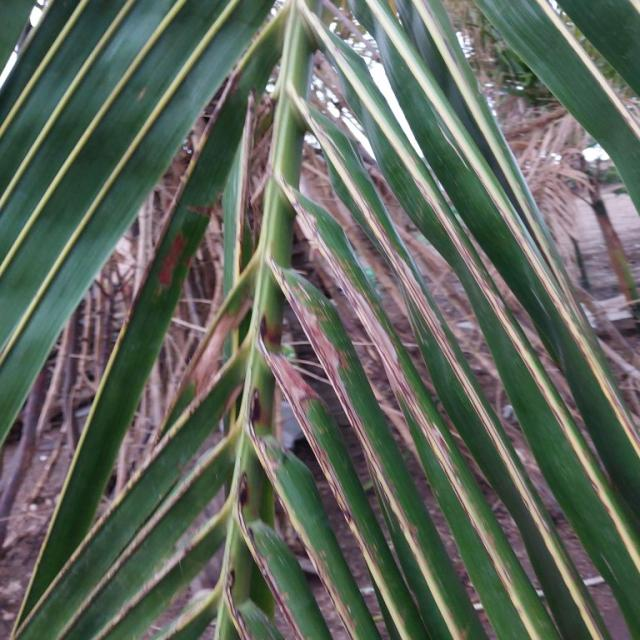gray leaf spot: (0, 0, 637, 640)
